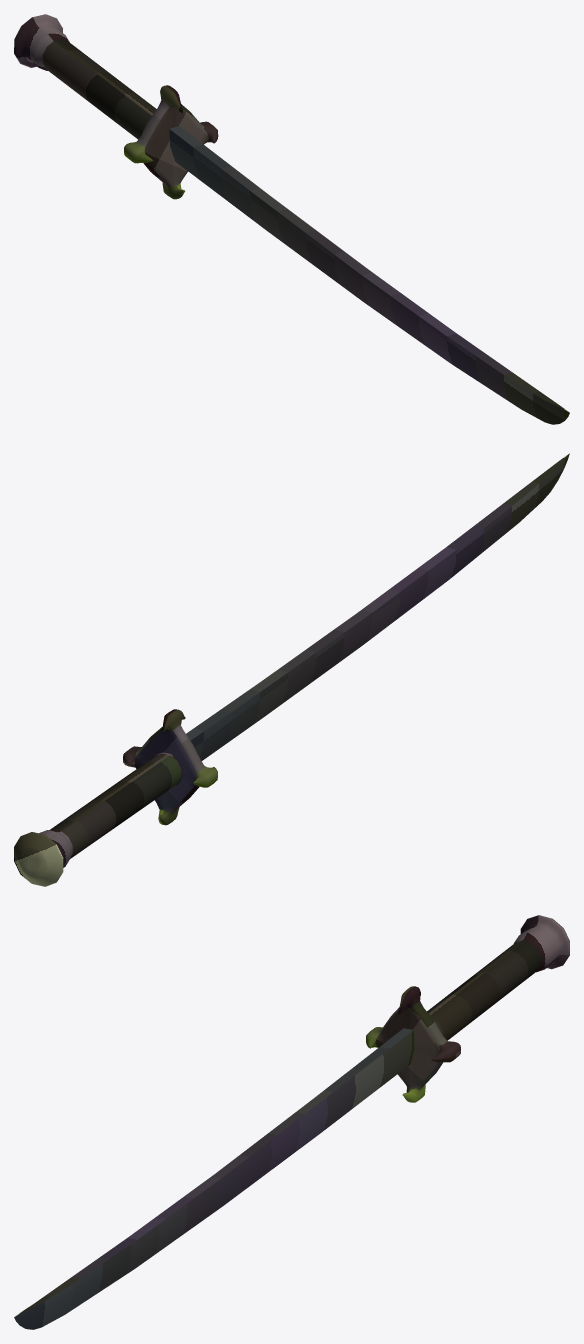
File: sword.glb
3 renders of one model, top to bottom at view 1: azimuth 30°, elevation 25°; view 2: azimuth 150°, elevation 25°; view 3: azimuth 330°, elevation 25°, orthographic.
Visible parts, largest first — view 1: Cube; view 2: Cube; view 3: Cube.
Boxes of the visible parts, bbox=[...] form: Cube: bbox=[14, 14, 569, 424]; Cube: bbox=[14, 453, 569, 886]; Cube: bbox=[14, 915, 569, 1329].
Bounding box in the file's own units: 0.1033 × 0.1254 × 1.11.
1 material, 1 textured.
